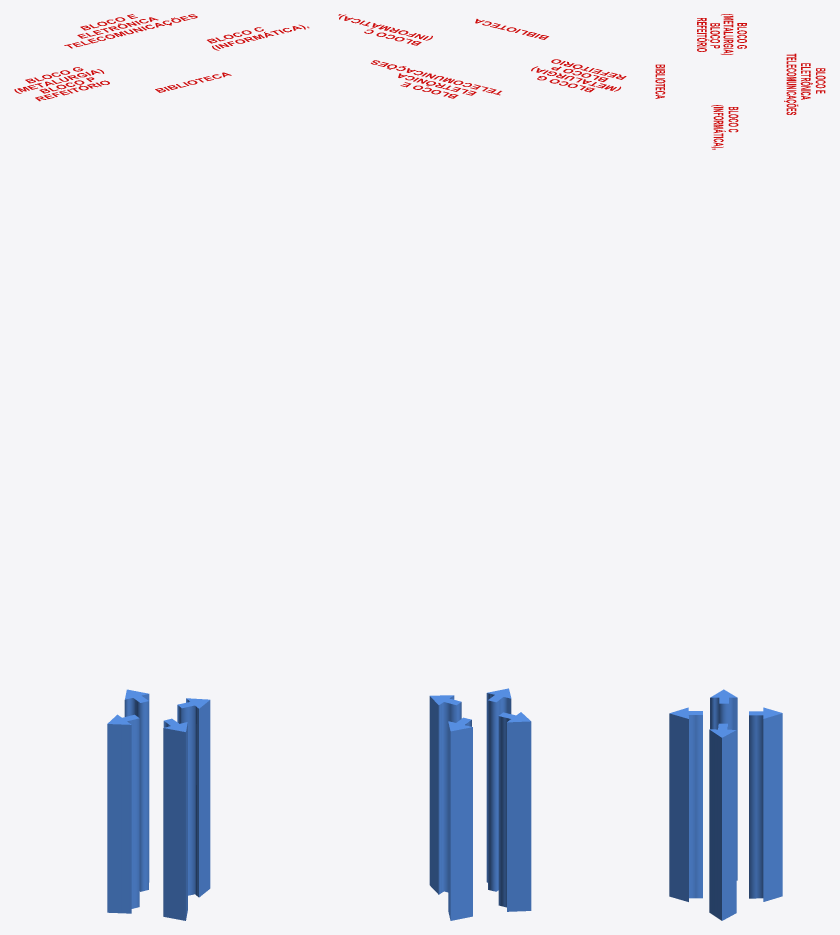
Rendered from Seta bloco E.glb.
3 renders of one model, left to right at view 1: azimuth 30°, elevation 25°; view 2: azimuth 150°, elevation 25°; view 3: azimuth 270°, elevation 25°, orthographic. The views are drawn at different scales.
Visible parts, largest first — view 1: Curve.001, Curve.004, Curve.003, Curve.006; view 2: Curve.001, Curve.006, Curve.003, Curve.004; view 3: Curve.004, Curve.006, Curve.003, Curve.001, Text.005.
Part boxes in pixels (x1,y1,x2,y2): Curve.001: (107,714,139,913); Curve.004: (163,718,187,920); Curve.003: (177,698,210,897); Curve.006: (124,689,149,891); Curve.001: (498,712,531,911); Curve.006: (448,717,472,920); Curve.003: (429,695,461,894); Curve.004: (486,688,511,891); Curve.004: (669,707,702,901); Curve.006: (749,707,782,901); Curve.003: (709,723,736,920); Curve.001: (710,689,737,880); Text.005: (784,53,798,114).
Size of the model in its own units: 0.2091 by 0.5868 by 0.111.
